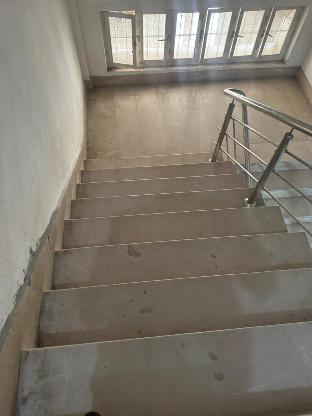stair: (64, 164, 287, 416)
